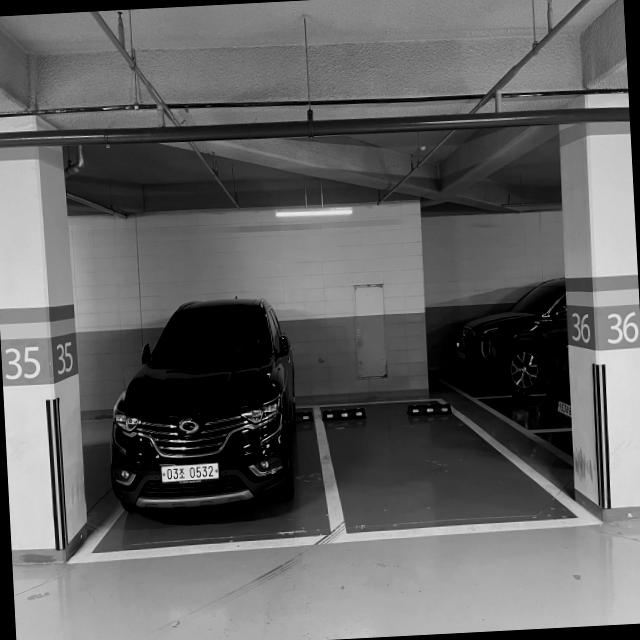car: (85, 274, 326, 568)
free: (320, 394, 616, 527)
